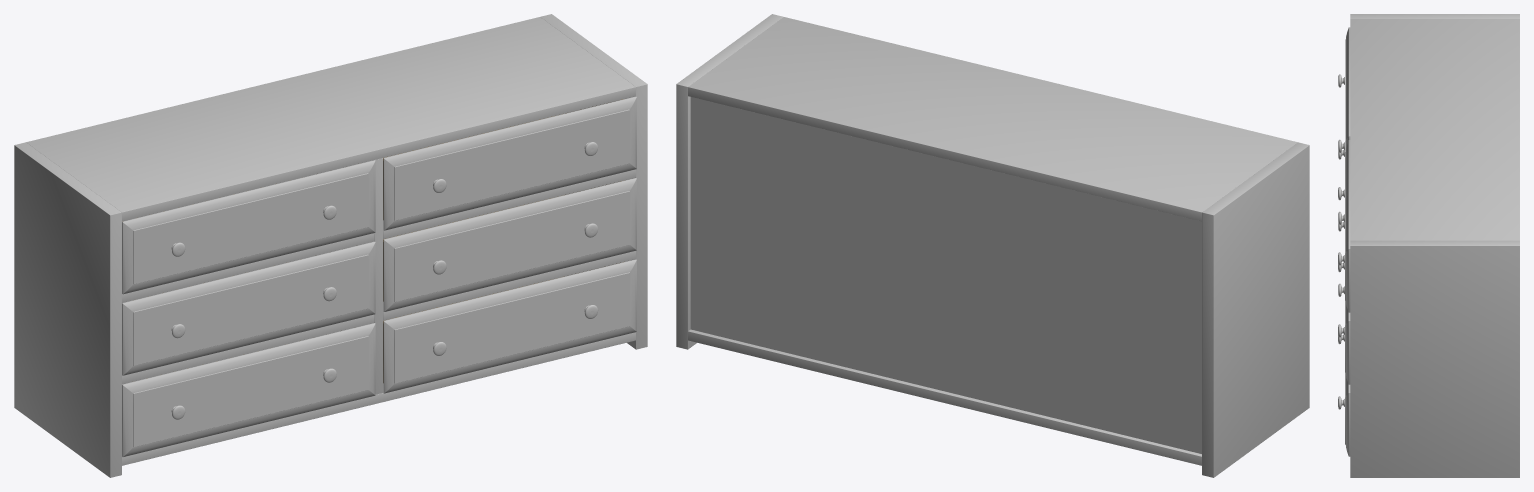
The model's file is kids_haven_-_drawer.glb.
3 views of the same model, side by side, from view 1: azimuth 30°, elevation 25°; view 2: azimuth 150°, elevation 25°; view 3: azimuth 270°, elevation 25° (orthographic). The views are drawn at different scales.
Visible parts, largest first — view 1: KidsHavenDrawer_KidsHavenDrawer_D_0; view 2: KidsHavenDrawer_KidsHavenDrawer_D_0; view 3: KidsHavenDrawer_KidsHavenDrawer_D_0.
Boxes of the visible parts, x1=… form: KidsHavenDrawer_KidsHavenDrawer_D_0: x1=14, y1=14, x2=647, y2=477; KidsHavenDrawer_KidsHavenDrawer_D_0: x1=676, y1=14, x2=1309, y2=477; KidsHavenDrawer_KidsHavenDrawer_D_0: x1=1338, y1=14, x2=1519, y2=477.
Bounding box in the file's own units: 1.52 × 0.71 × 0.5042.
1 material, 1 textured.
